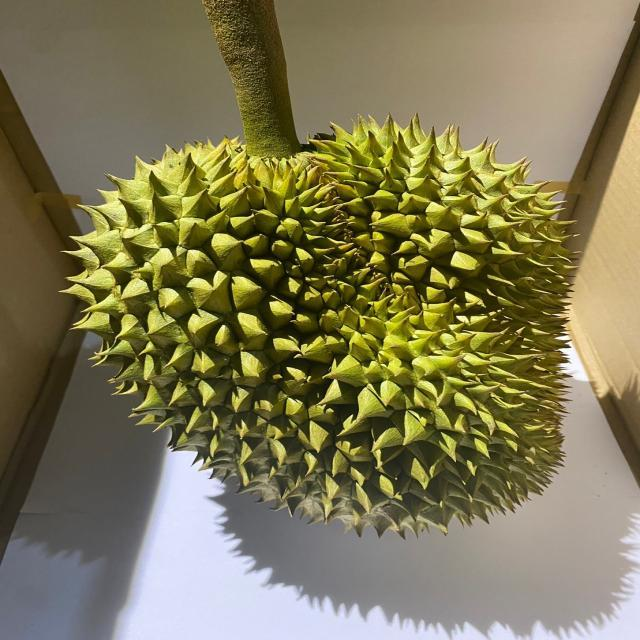immature: (62, 112, 588, 546)
